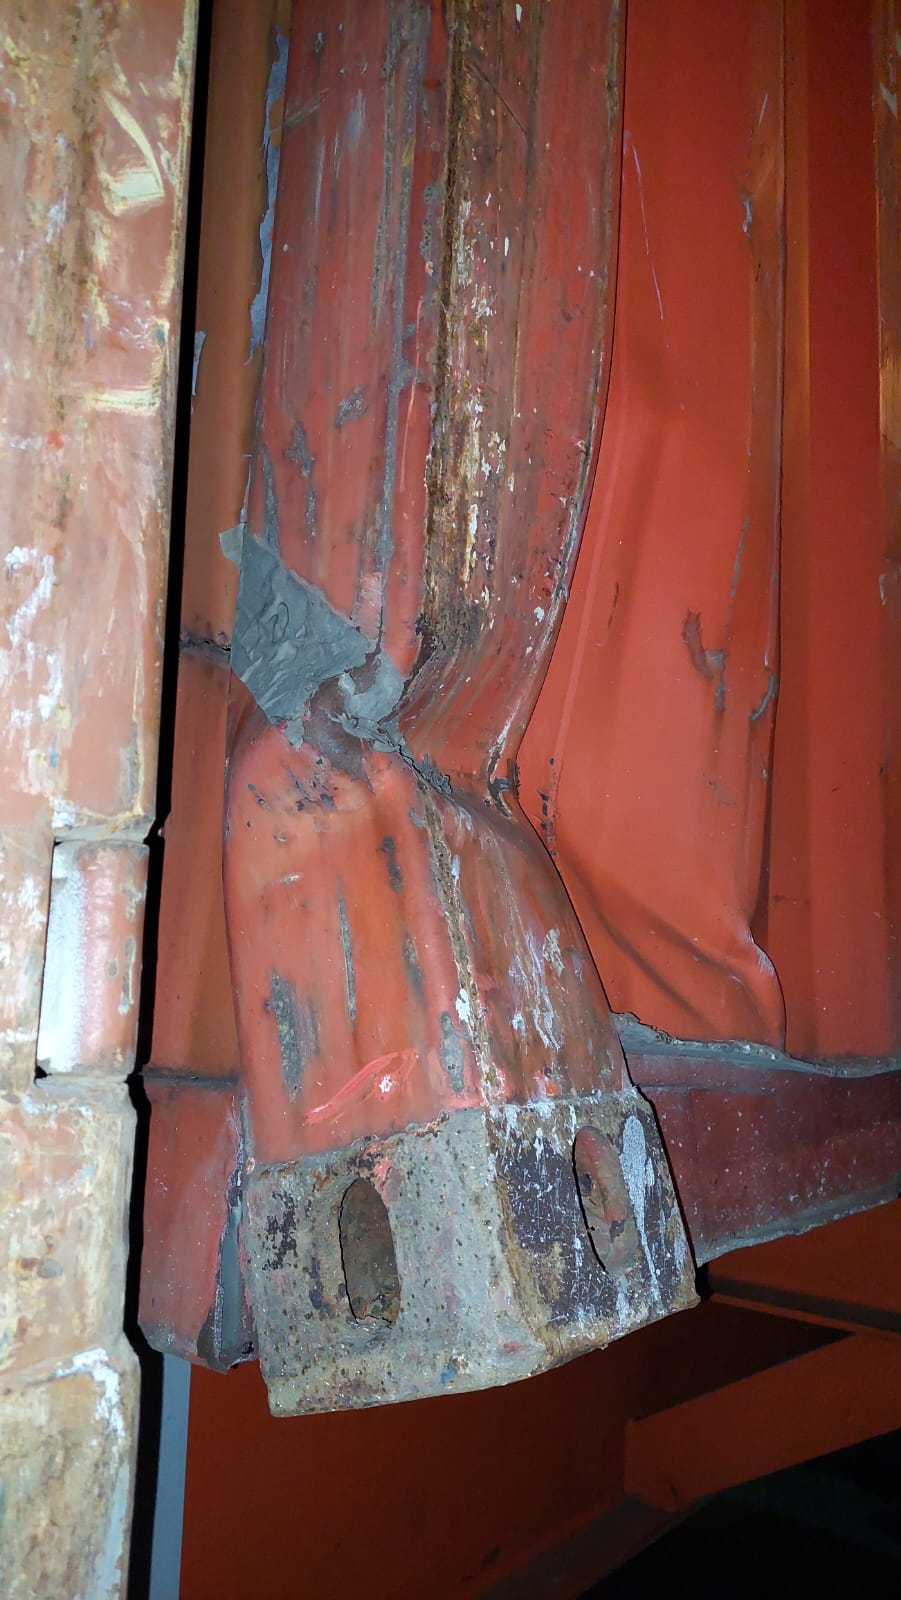dented: (240, 495, 793, 1159)
